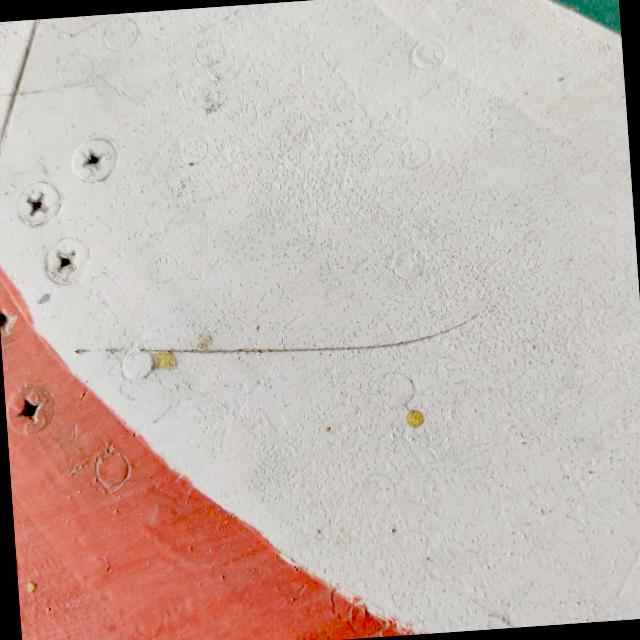scratch: (54, 285, 501, 403)
